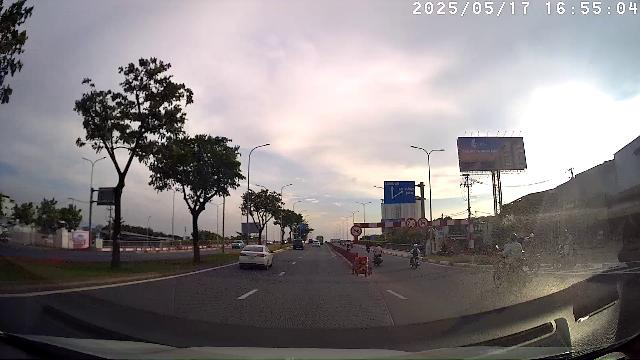103a-cam-oto: (418, 218, 428, 228)
